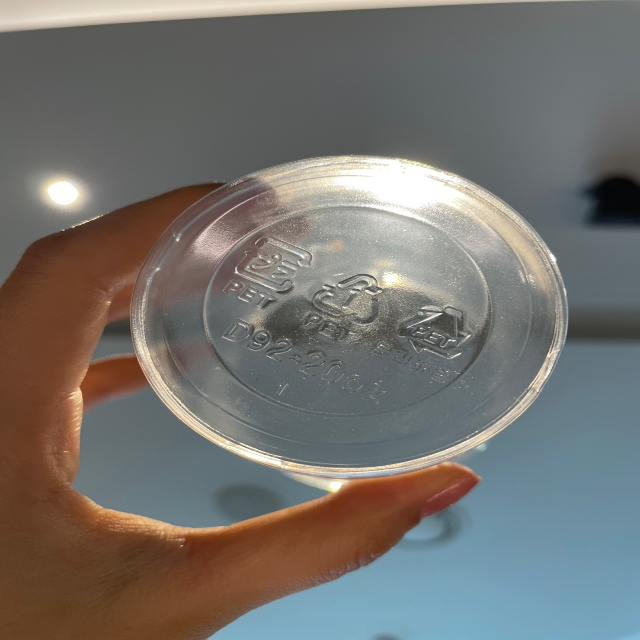pet: (375, 304, 485, 387), (221, 227, 315, 318), (302, 271, 387, 350)
